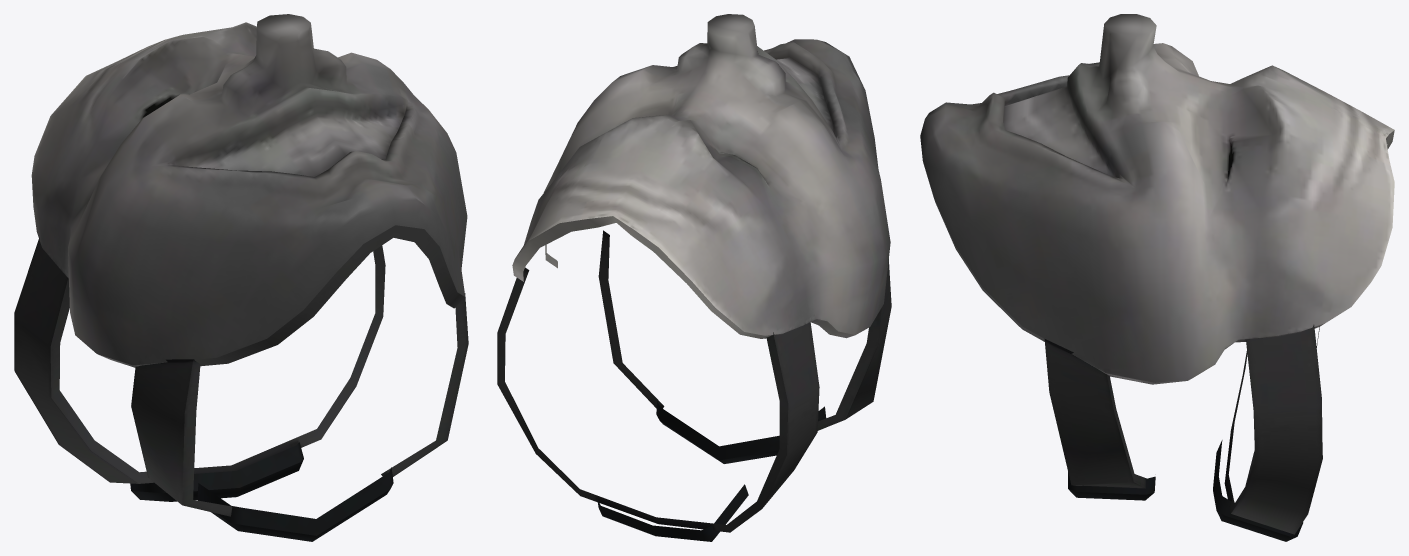
3 views of the same model, side by side, from view 1: azimuth 30°, elevation 25°; view 2: azimuth 150°, elevation 25°; view 3: azimuth 270°, elevation 25° (orthographic). The views are drawn at different scales.
Parts seen in each view (by area): view 1: body0_model0_lod0_mesh0; view 2: body0_model0_lod0_mesh0; view 3: body0_model0_lod0_mesh0.
Boxes of the visible parts, x1,y1,x2,y2 form: body0_model0_lod0_mesh0: (14,14,468,541); body0_model0_lod0_mesh0: (497,14,891,541); body0_model0_lod0_mesh0: (920,14,1394,541).
Bounding box in the file's own units: 7.54 × 10.28 × 8.84.
Materials: 2 (2 with a texture image).
